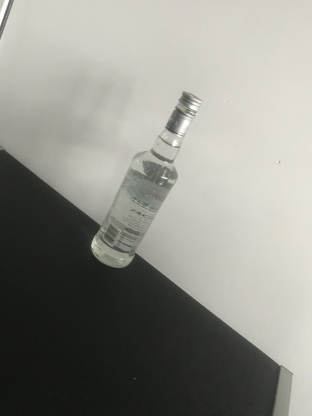nakretka: (165, 88, 204, 140)
